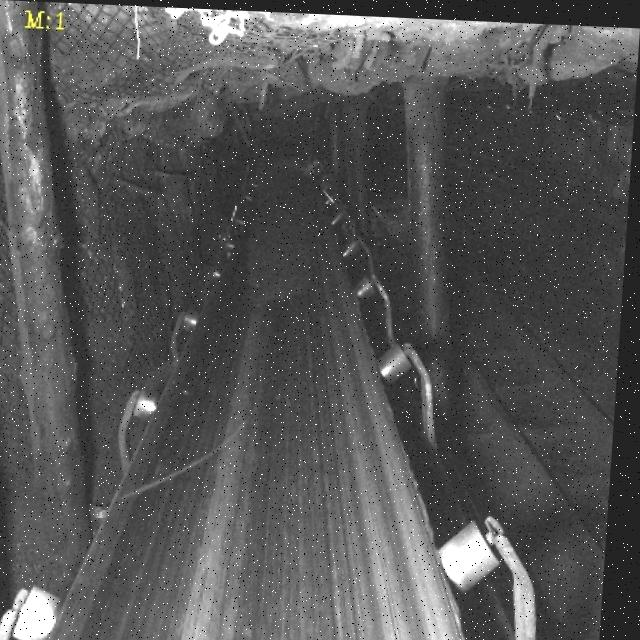bolt: (126, 413, 261, 503)
